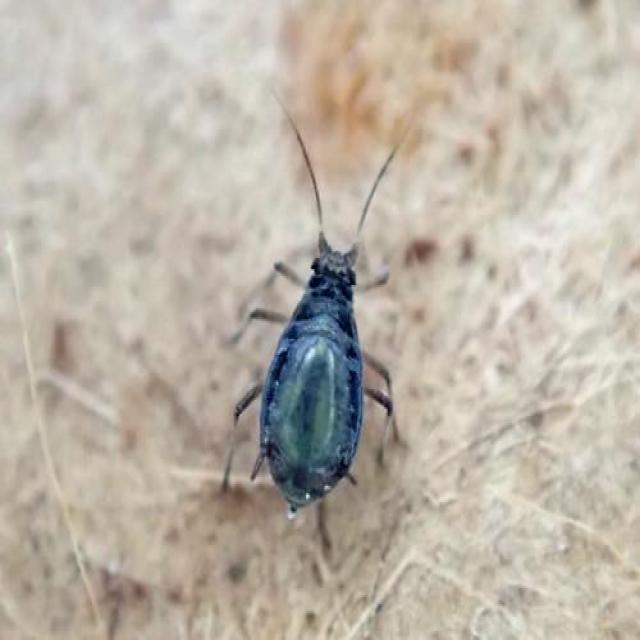aphid: (256, 164, 388, 515)
